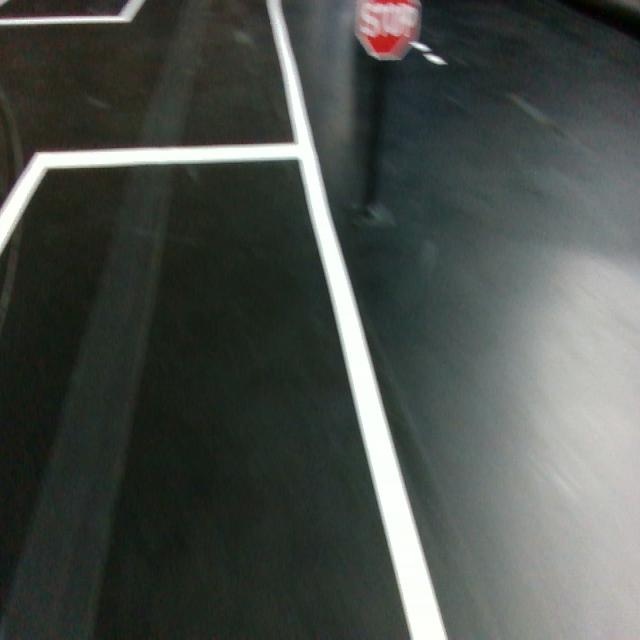stop-sign: (354, 0, 422, 61)
